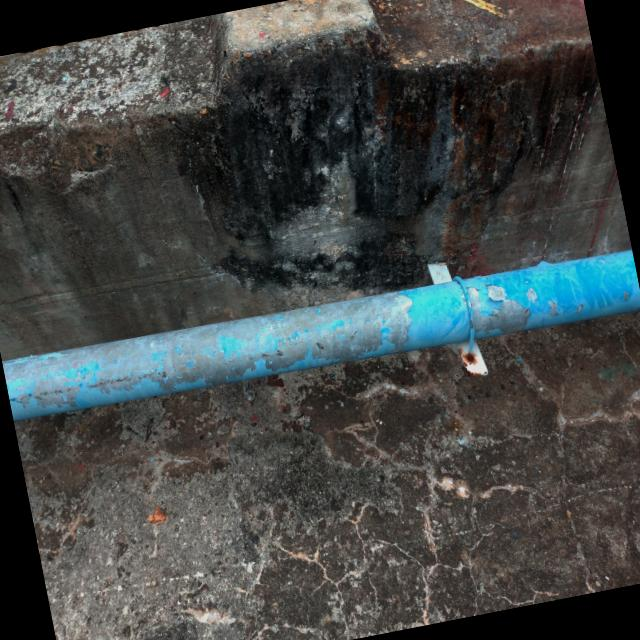gas: (2, 238, 640, 436)
